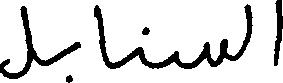X: (0, 1, 33, 82), (173, 34, 223, 73), (275, 0, 282, 82), (96, 0, 104, 66), (244, 0, 251, 55), (70, 37, 78, 82), (137, 24, 143, 68)
